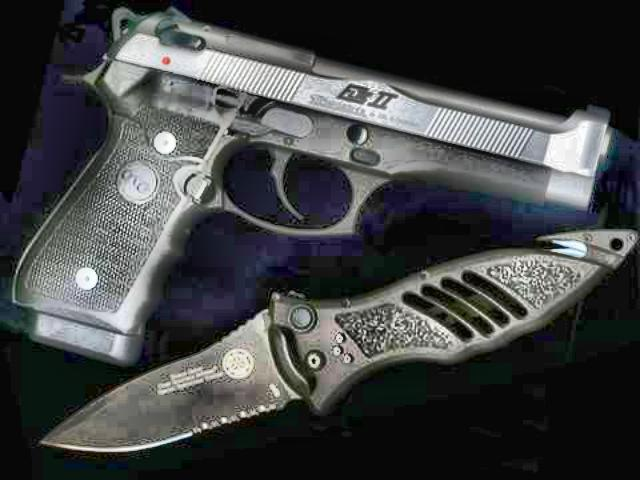pistol: (0, 6, 618, 364)
